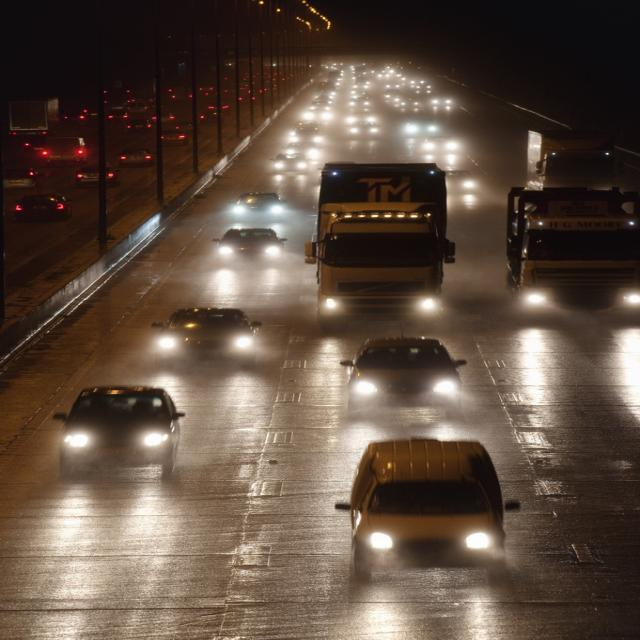car: (336, 440, 522, 582), (53, 383, 190, 480), (342, 334, 463, 418), (148, 304, 260, 367), (207, 226, 286, 266)
